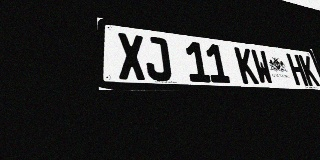1: (184, 41, 211, 82), (204, 43, 230, 83)
H: (286, 53, 309, 86)
J: (143, 36, 172, 81)
K: (234, 47, 259, 84), (298, 55, 320, 86)
W: (250, 49, 275, 85)
X: (117, 32, 147, 80)
